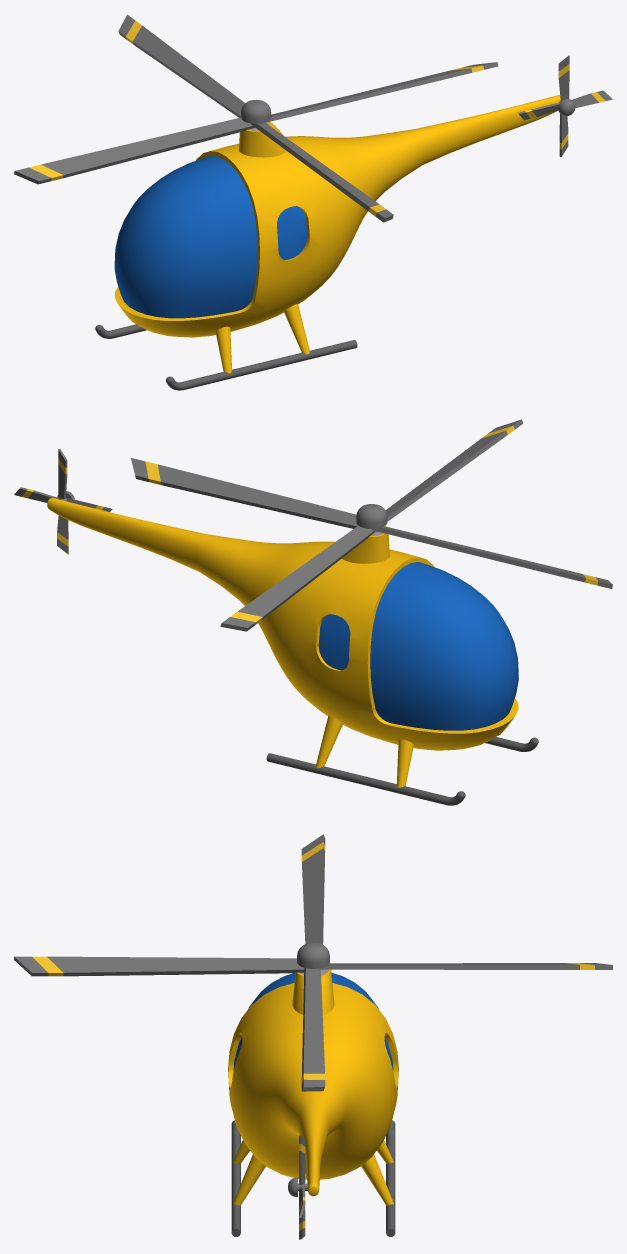
Rendered from helicopter.glb.
3 views of the same model, one above another, from view 1: azimuth 30°, elevation 25°; view 2: azimuth 150°, elevation 25°; view 3: azimuth 270°, elevation 25° (orthographic). The views are drawn at different scales.
Parts seen in each view (by area): view 1: Cube.854; view 2: Cube.854; view 3: Cube.854.
Part boxes in pixels (x1,y1,x2,y2): Cube.854: [14, 14, 612, 390]; Cube.854: [14, 419, 612, 805]; Cube.854: [14, 834, 612, 1239].
Bounding box in the file's own units: 2.43 × 0.9308 × 1.96.
Materials: 1 (1 with a texture image).
